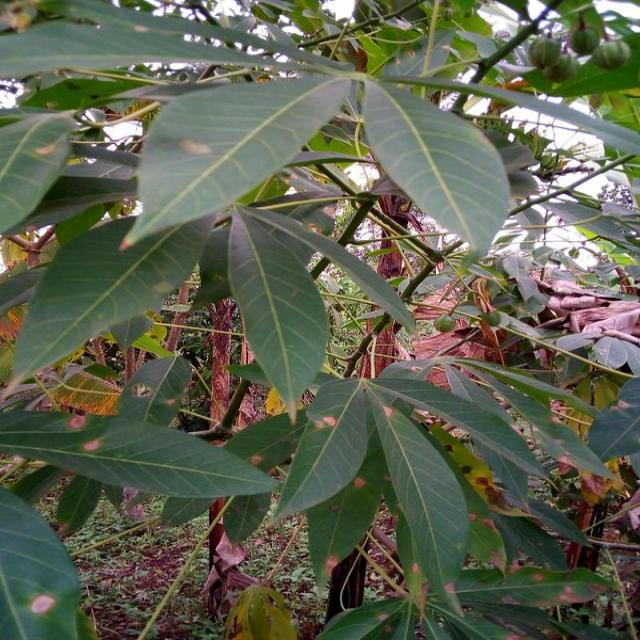cassava leaf: (120, 65, 354, 249), (10, 207, 214, 387), (360, 77, 510, 264), (226, 200, 330, 422), (368, 394, 470, 616)
